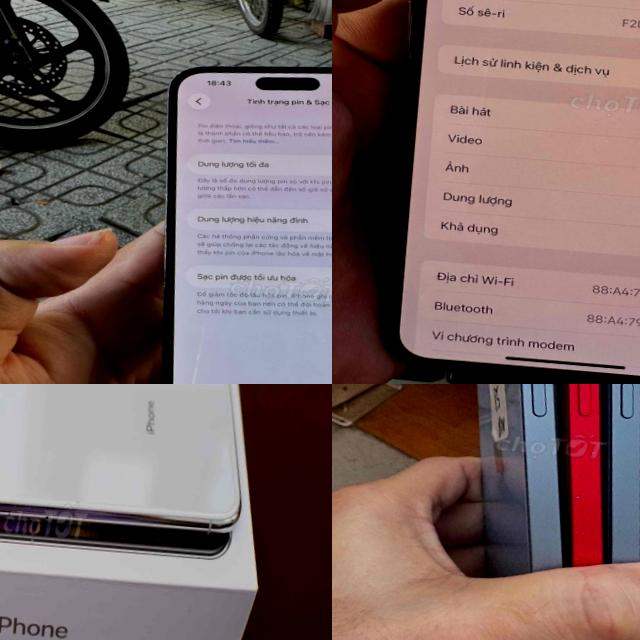gen_11: (387, 0, 640, 384)
gen_14: (130, 45, 332, 384), (410, 384, 616, 640)
gen_x_xs: (0, 384, 290, 600)
